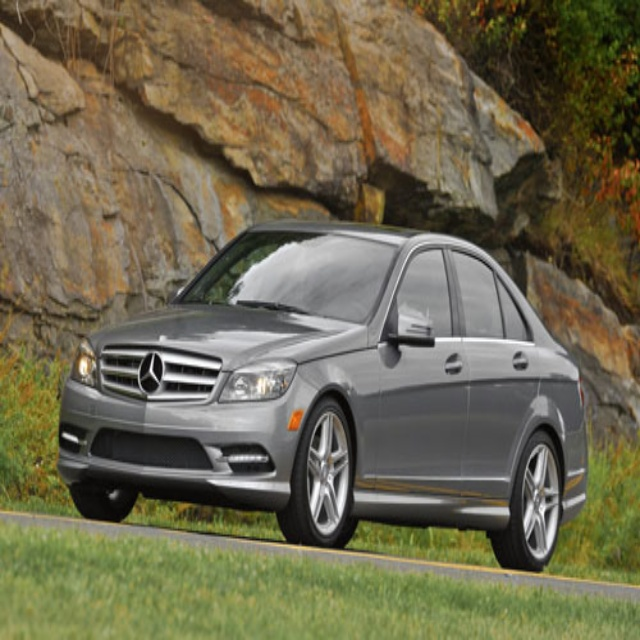Car: (55, 220, 588, 572)
